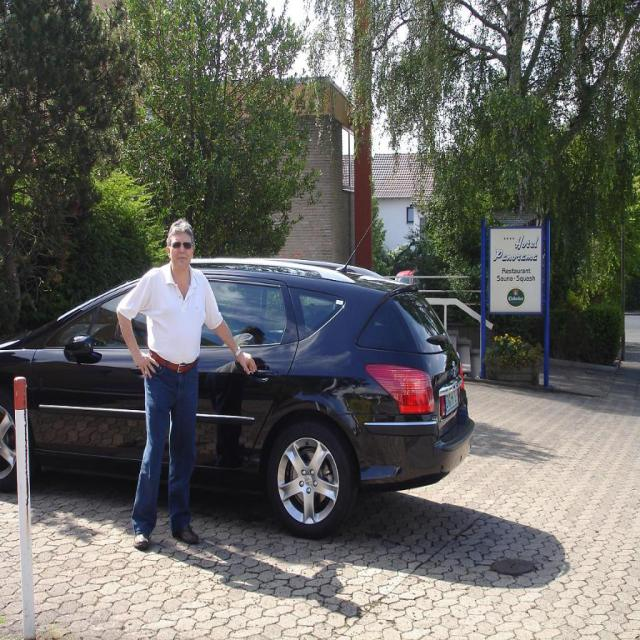Passenger Car: (1, 262, 473, 540)
Pedestrians: (116, 218, 256, 551)
